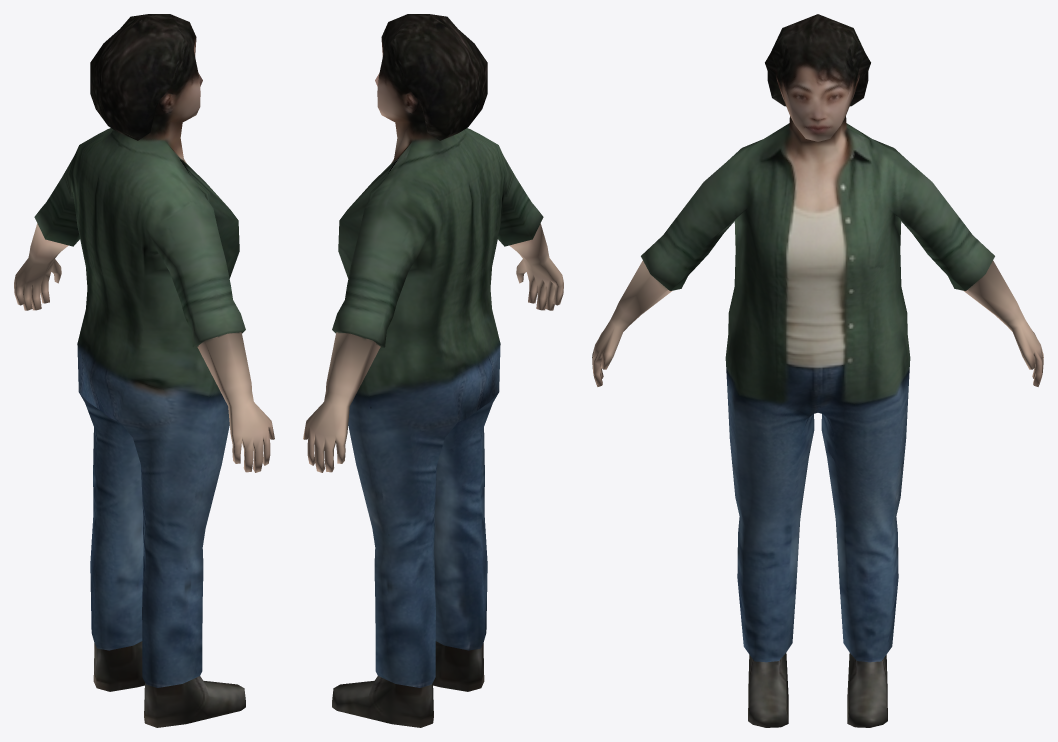
The model's file is Character_45_Female.fbx.
3 views of the same model, side by side, from view 1: azimuth 30°, elevation 25°; view 2: azimuth 150°, elevation 25°; view 3: azimuth 270°, elevation 25° (orthographic).
Parts seen in each view (by area): view 1: Character_45_Female; view 2: Character_45_Female; view 3: Character_45_Female.
Boxes of the visible parts, box(x1,y1,x2,y2) form: Character_45_Female: box(14, 14, 274, 727); Character_45_Female: box(303, 14, 563, 727); Character_45_Female: box(592, 14, 1043, 727).
Size of the model in its own units: 0.306 by 1.55 by 0.9359.
